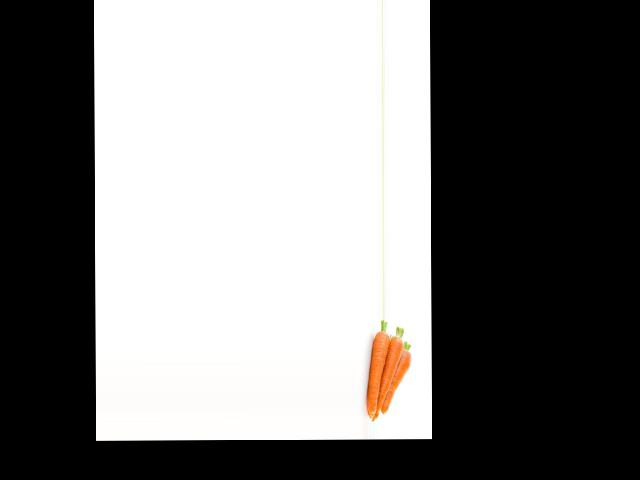carrot: (367, 325, 387, 417)
